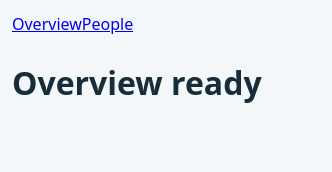
Scenario: route loading announcements › preserves navigation and reports the current route when a new page loads
Later steps or results of the test are not shown.
Click the link "People".
click(108, 24)  # box [82,13,133,35]
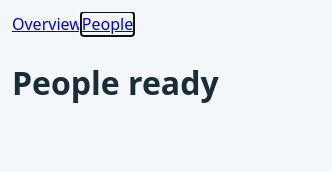
Expected: the heading "People ready" is shown, [12,61,219,104]
